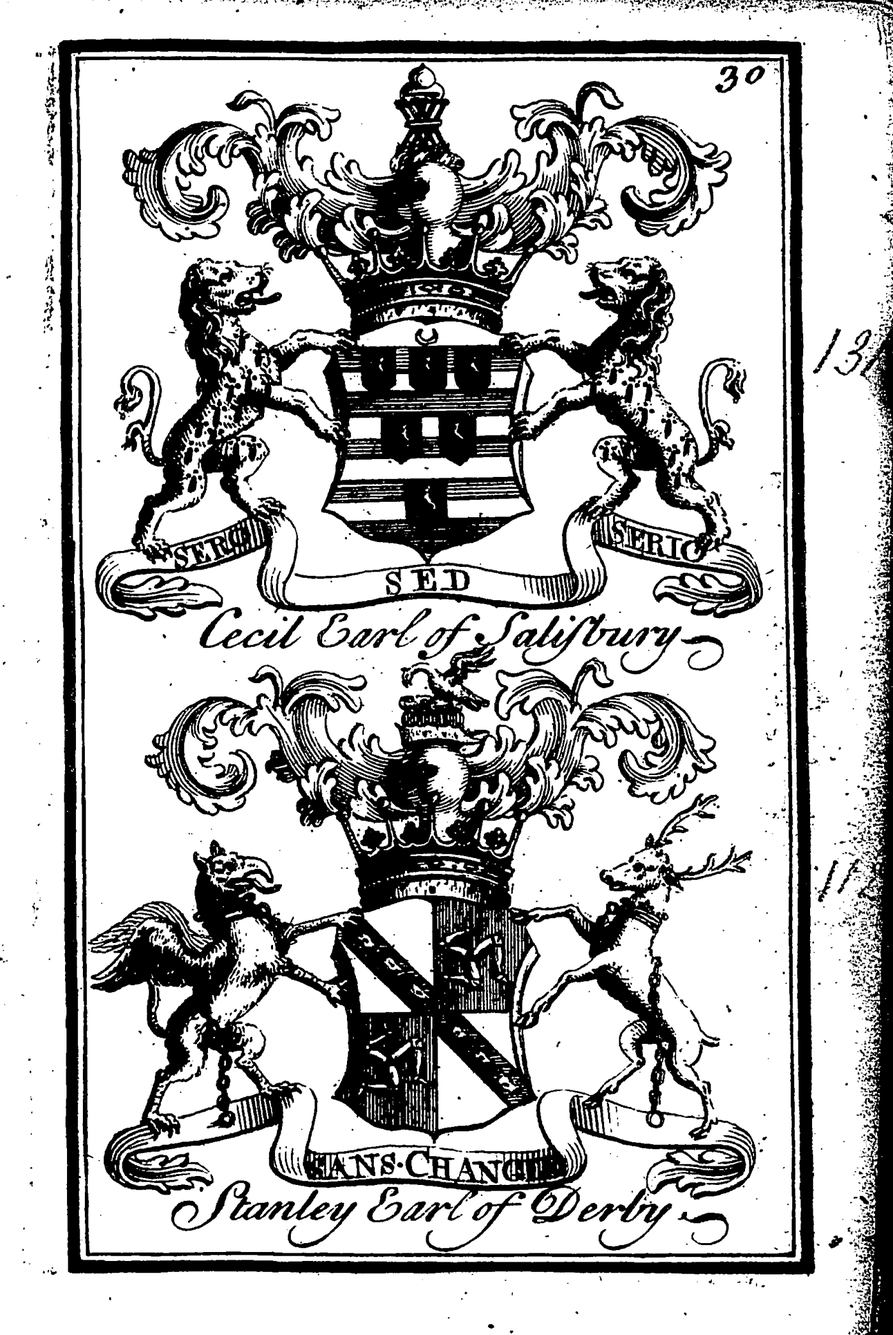coat_of_arms: (85, 59, 749, 670), (95, 664, 769, 1247)
